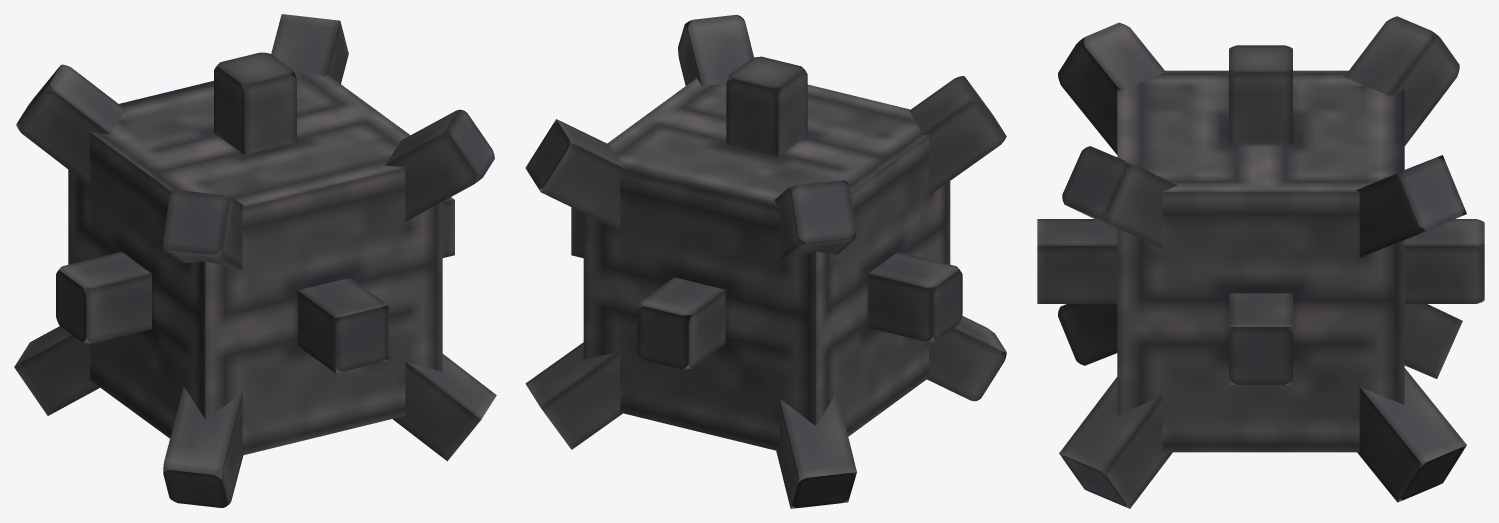
File: underwater_mine.obj
3 views of the same model, side by side, from view 1: azimuth 30°, elevation 25°; view 2: azimuth 150°, elevation 25°; view 3: azimuth 270°, elevation 25° (orthographic). The views are drawn at different scales.
Visible parts, largest first — view 1: cube; view 2: cube; view 3: cube.
Part boxes in pixels (bbox=[...]): cube: bbox=[14, 14, 496, 507]; cube: bbox=[525, 15, 1006, 508]; cube: bbox=[1037, 16, 1484, 508].
Size of the model in its own units: 1.75 by 1.62 by 1.75.
